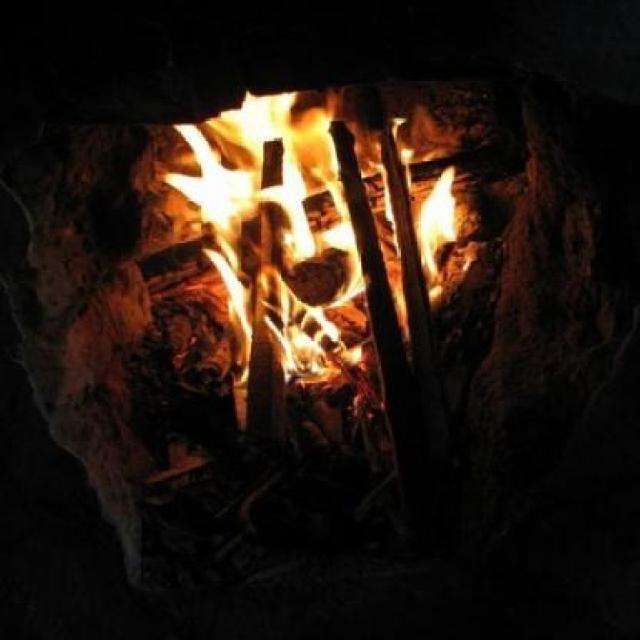Fire: (160, 76, 467, 390)
